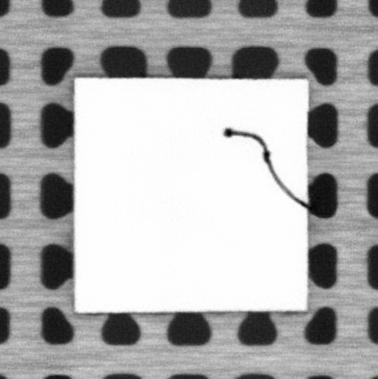DIE_INK: (223, 126, 308, 207)
